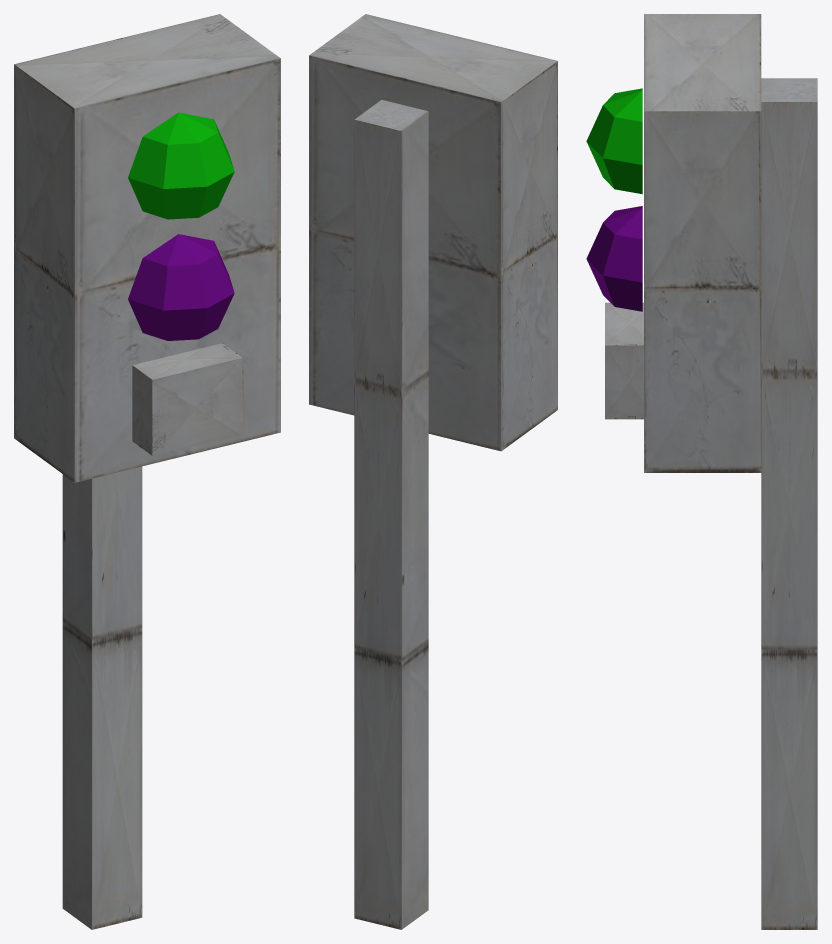
File: electricalbox.fbx
3 views of the same model, side by side, from view 1: azimuth 30°, elevation 25°; view 2: azimuth 150°, elevation 25°; view 3: azimuth 270°, elevation 25° (orthographic). The views are drawn at different scales.
Parts seen in each view (by area): view 1: Cube.001, Cube, Cube.002, Sphere, Sphere.001; view 2: Cube.001, Cube; view 3: Cube.001, Cube, Sphere, Sphere.001, Cube.002.
Boxes of the visible parts, left/top/right/bottom form: Cube.001: left=14, top=14, right=280, bottom=482; Cube: left=62, top=466, right=142, bottom=929; Cube.002: left=132, top=343, right=243, bottom=455; Sphere: left=128, top=112, right=234, bottom=219; Sphere.001: left=128, top=234, right=234, bottom=340; Cube.001: left=309, top=14, right=557, bottom=451; Cube: left=354, top=100, right=428, bottom=929; Cube.001: left=644, top=14, right=761, bottom=472; Cube: left=761, top=78, right=817, bottom=929; Sphere: left=586, top=88, right=642, bottom=194; Sphere.001: left=586, top=206, right=642, bottom=311; Cube.002: left=605, top=302, right=643, bottom=419.
Size of the model in its own units: 40.8 by 167 by 41.
3 materials, 1 textured.
